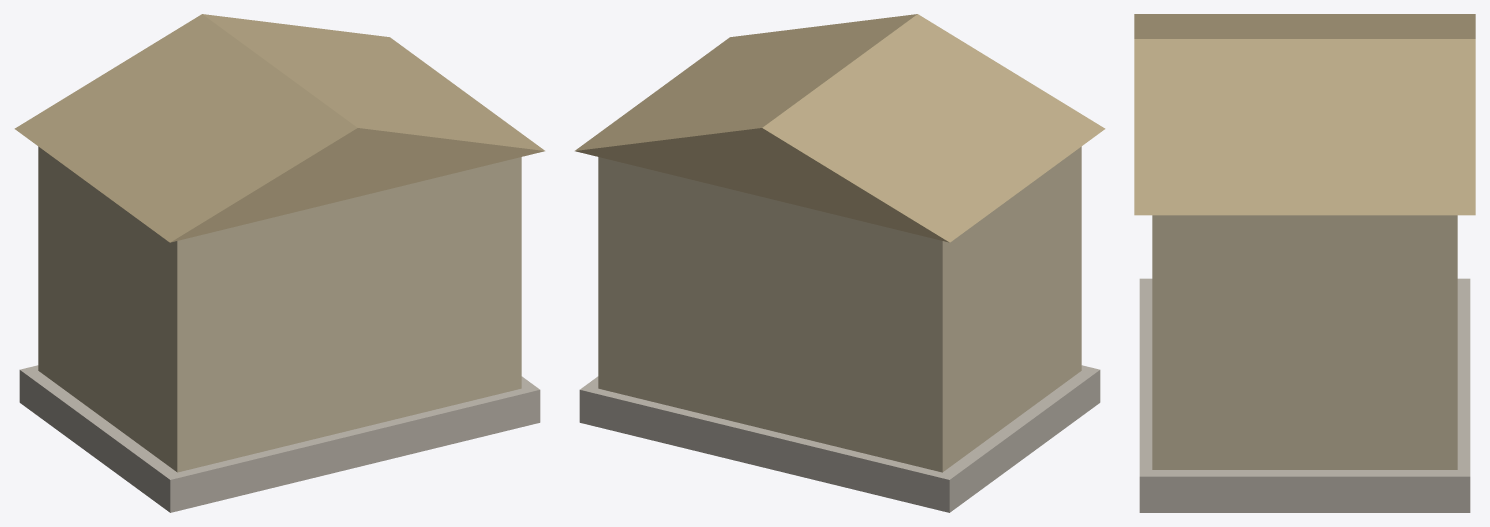
The model's file is salt_pan_shed_far-36cYI8x6.glb.
The picture shows the model from 3 angles, left to right: view 1: azimuth 30°, elevation 25°; view 2: azimuth 150°, elevation 25°; view 3: azimuth 270°, elevation 25°; orthographic projection. The views are drawn at different scales.
Visible parts, largest first — view 1: salt_pan_shed_far; view 2: salt_pan_shed_far; view 3: salt_pan_shed_far.
Part boxes in pixels (x1,y1,x2,y2): salt_pan_shed_far: (14, 14, 544, 512); salt_pan_shed_far: (575, 14, 1105, 512); salt_pan_shed_far: (1134, 14, 1475, 512).
Size of the model in its own units: 6.55 by 5.69 by 4.7.
